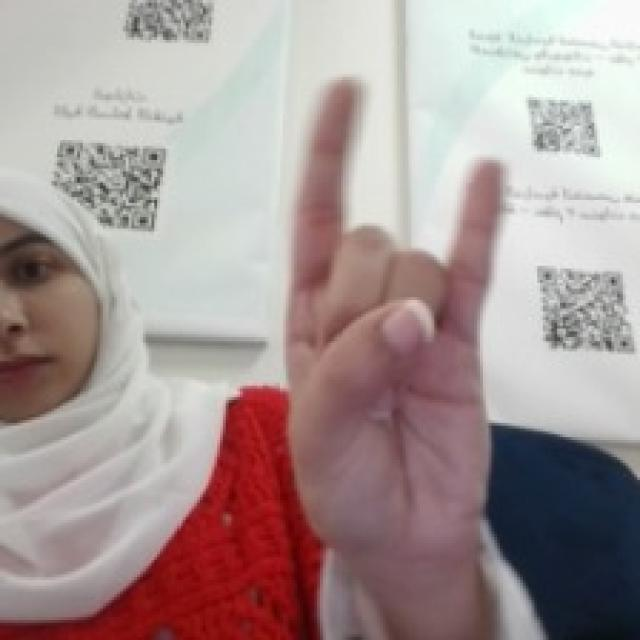No: (279, 68, 510, 550)
